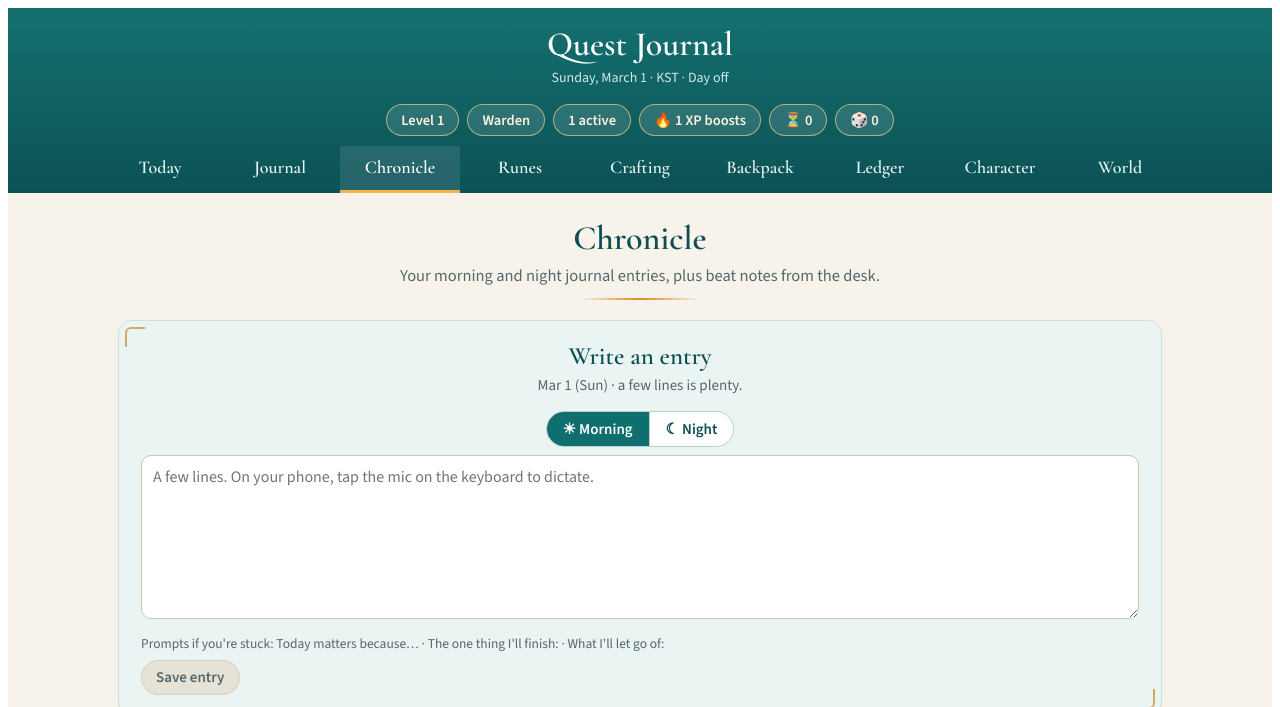
Test: tabs › renders all nine tabs
The width and height of the screenshot is (1280, 707).
Earlier steps of the test are not shown.
Check: the heading "Chronicle" is shown, box 573,218 -> 707,259
Step 1. Click the tab "Runes" → point(520, 169), box 460,146 -> 580,193
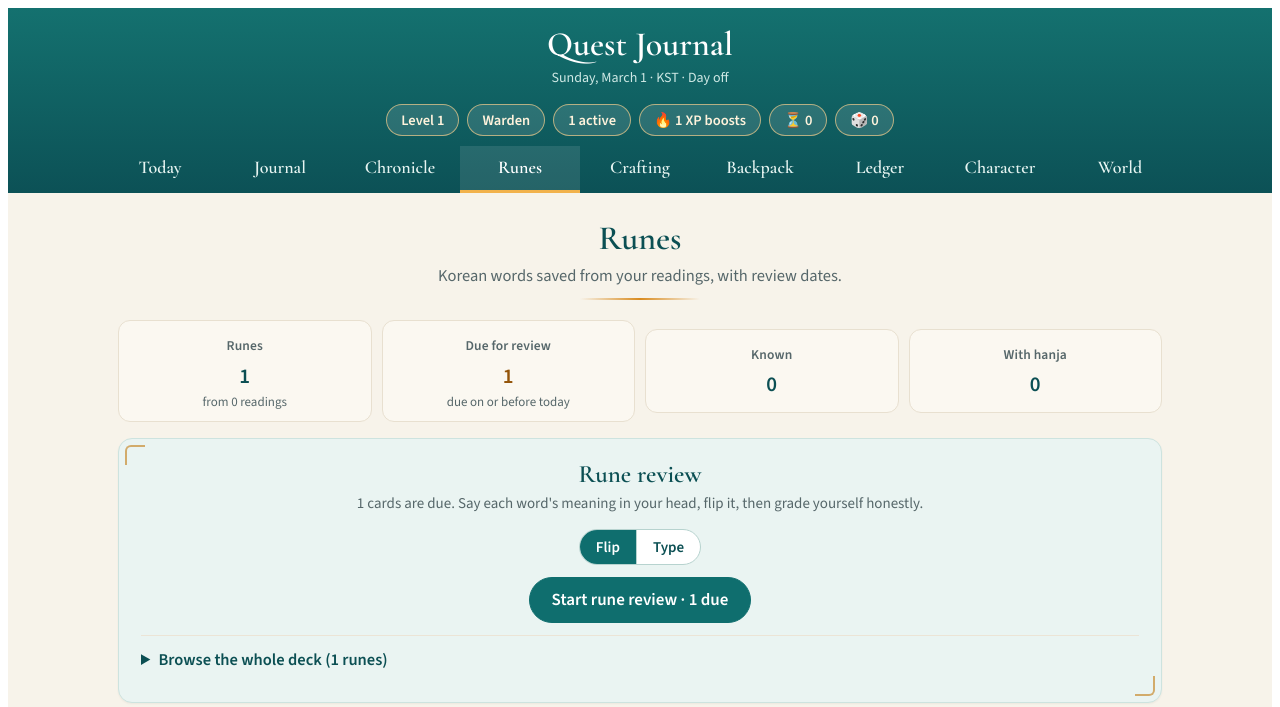
Check: the heading "Runes" is shown, box 598,218 -> 682,259
Step 2. Click the tab "Crafting" → point(640, 169), box 580,146 -> 700,193
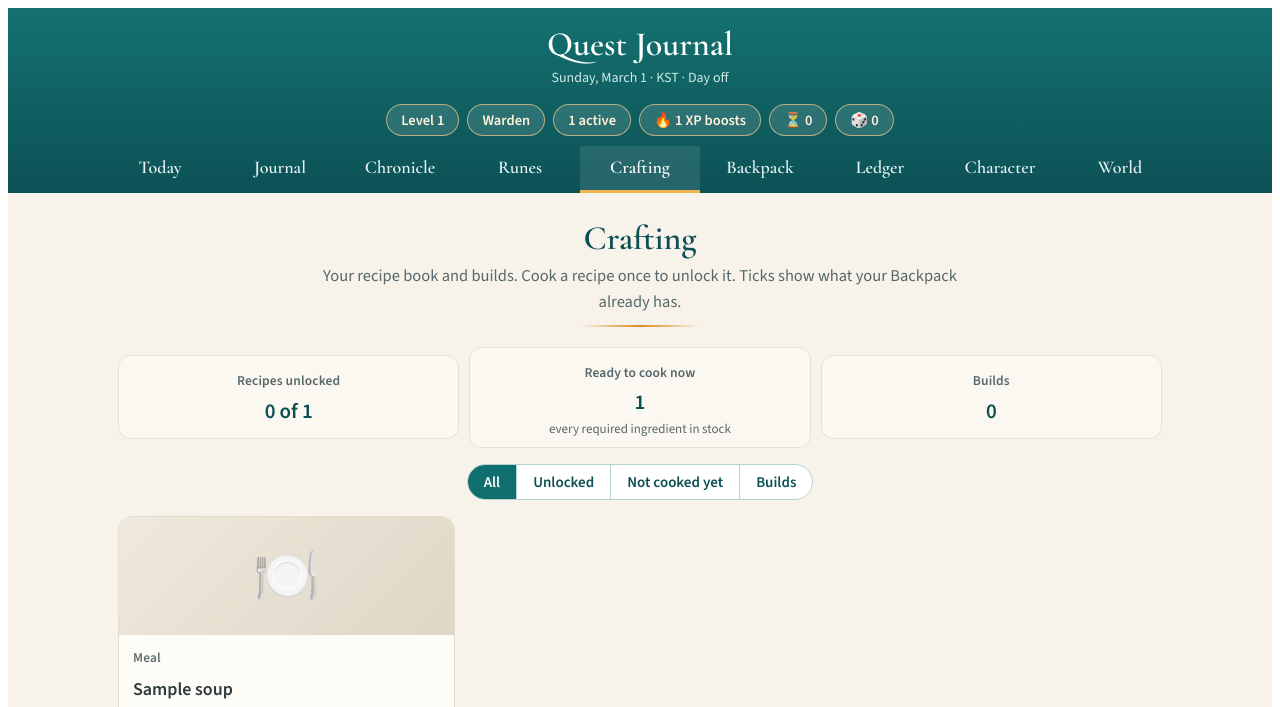
Check: the heading "Crafting" is shown, box 583,218 -> 697,259
Step 3. Click the tab "Backpack" → point(760, 169), box 700,146 -> 820,193
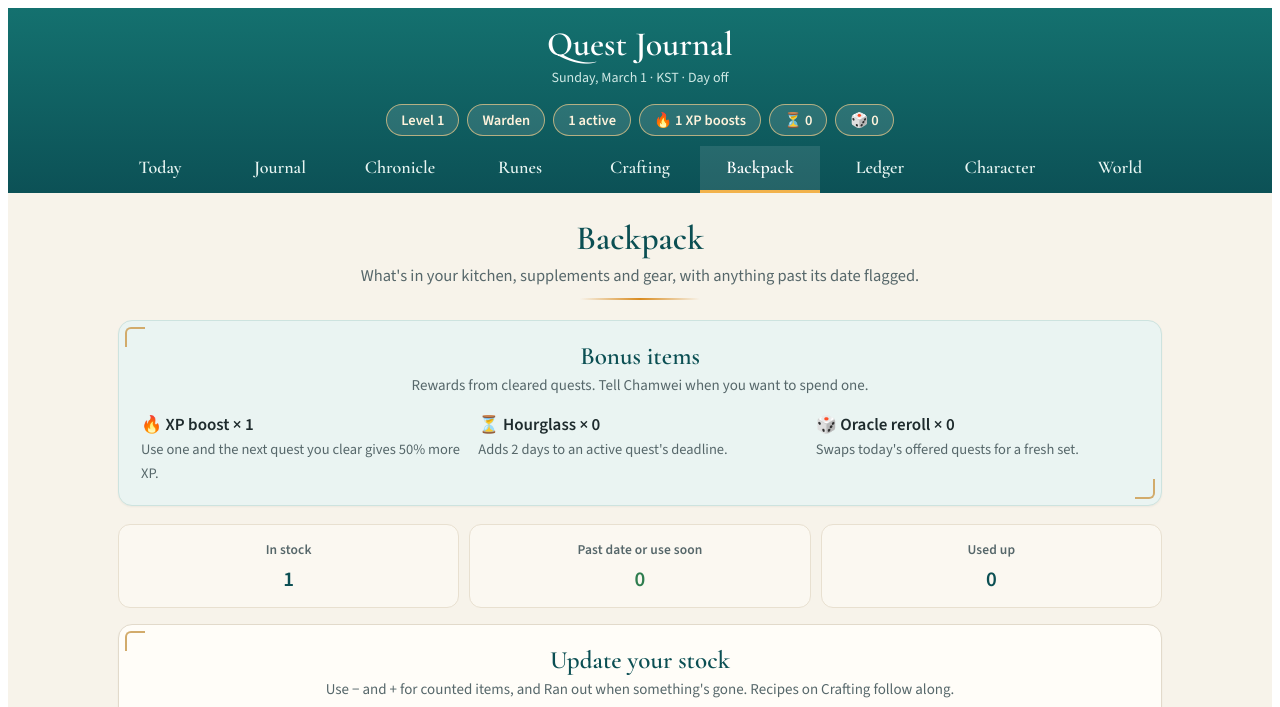
Check: the heading "Backpack" is shown, box 576,218 -> 704,259
Step 4. Click the tab "Ledger" → point(880, 169), box 820,146 -> 940,193
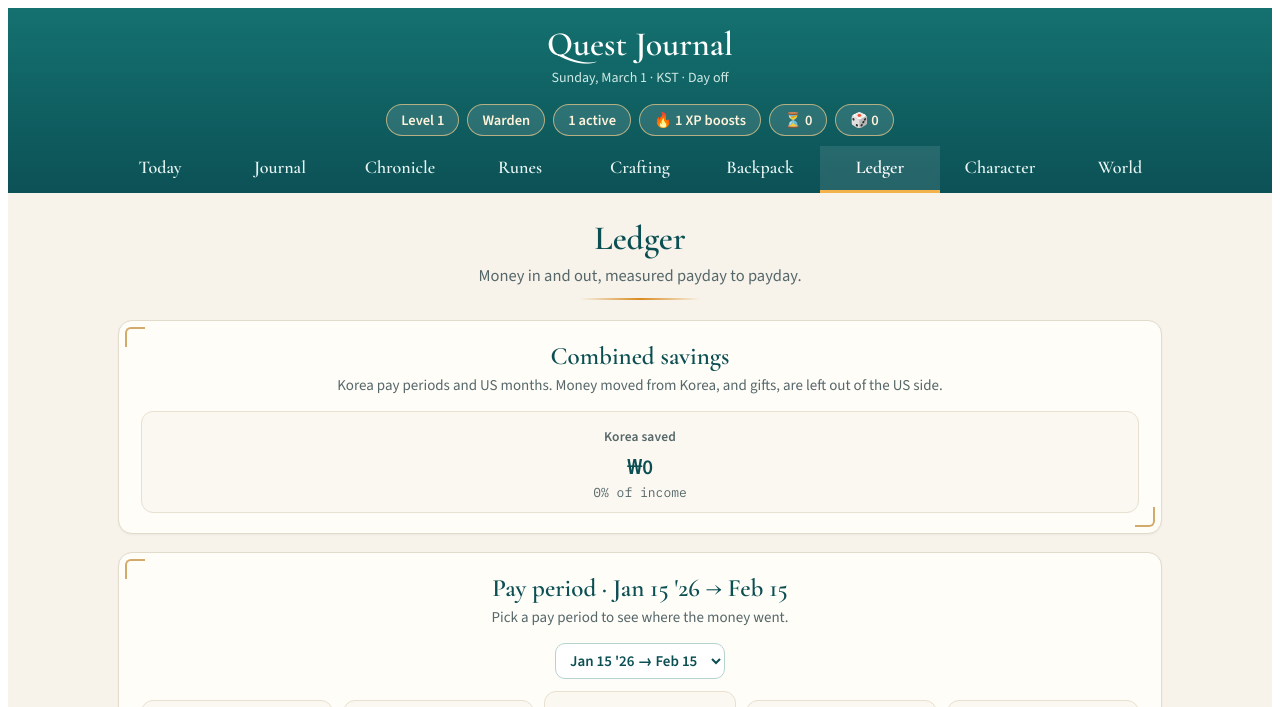
Check: the heading "Ledger" is shown, box 594,218 -> 686,259
Step 5. Click the tab "Character" → point(1000, 169), box 940,146 -> 1060,193
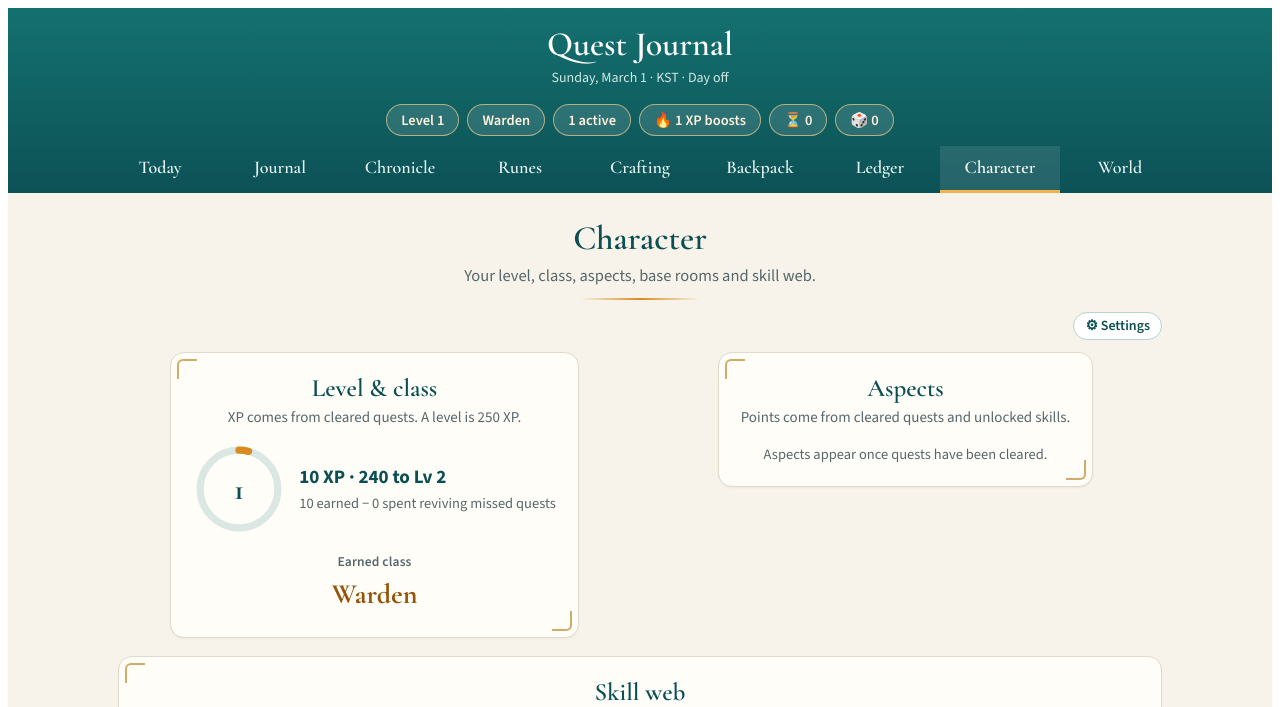
Check: the heading "Character" is shown, box 573,218 -> 707,259
Step 6. Click the tab "World" → point(1120, 169), box 1060,146 -> 1180,193
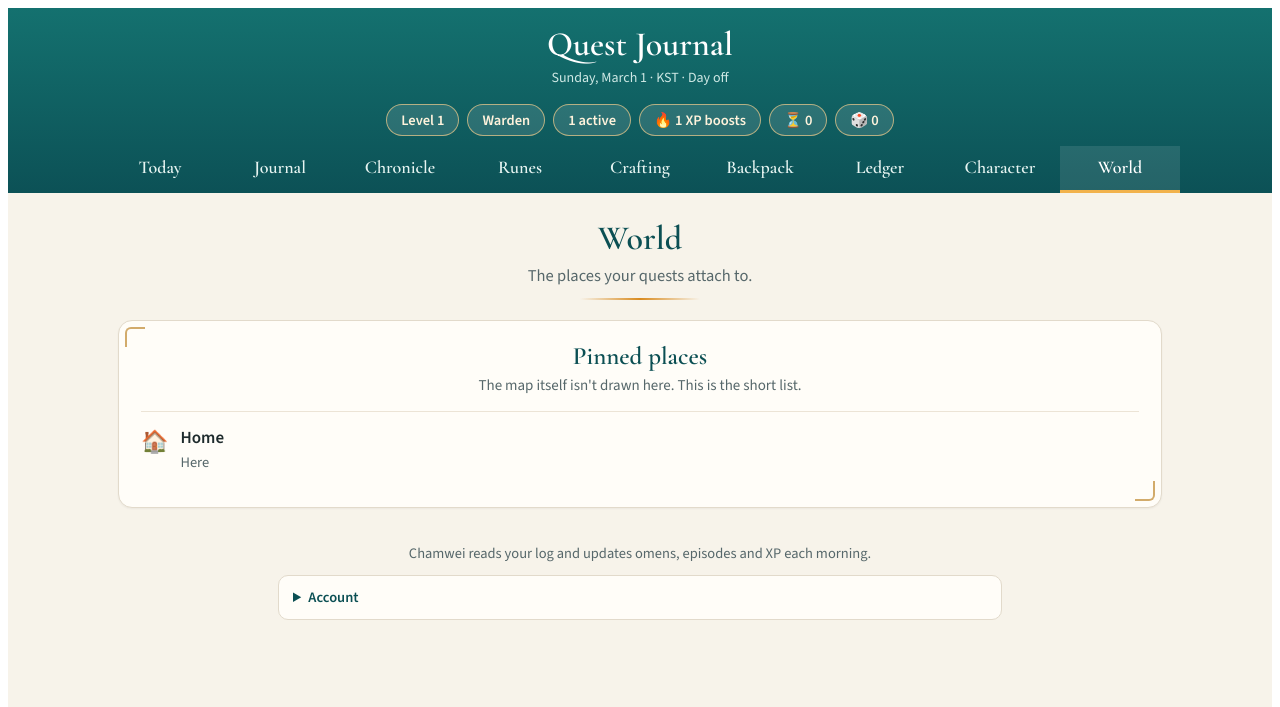
Check: the heading "World" is shown, box 598,218 -> 682,259
